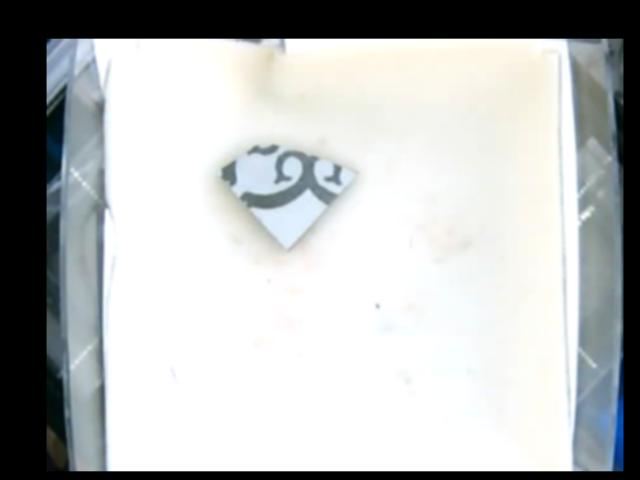China: (219, 138, 357, 249)
